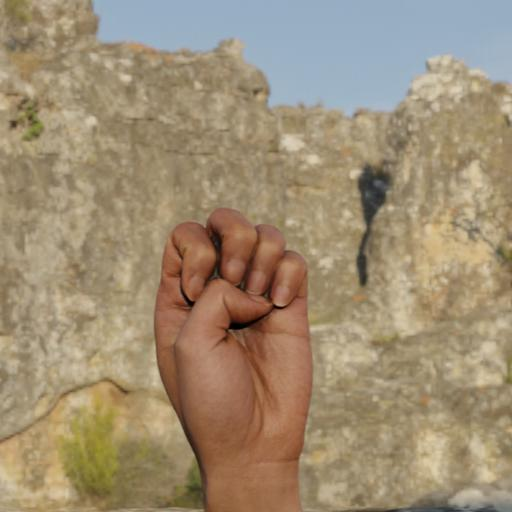E: (123, 185, 340, 480)
